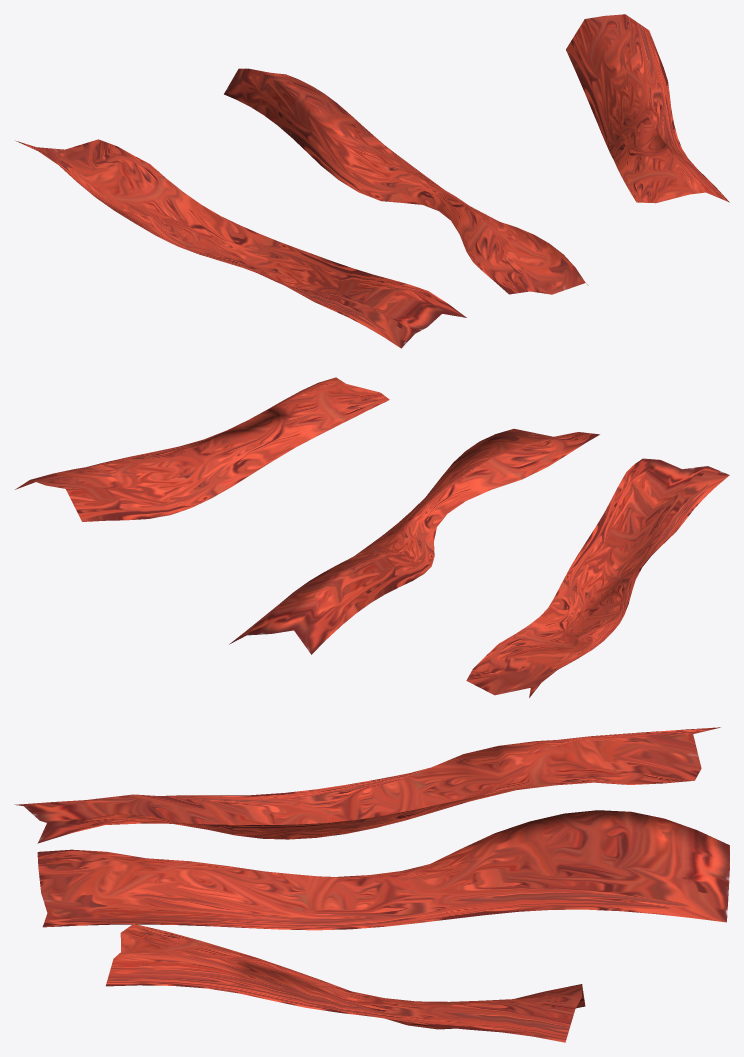
File: Bacon.glb
3 renders of one model, top to bottom at view 1: azimuth 30°, elevation 25°; view 2: azimuth 150°, elevation 25°; view 3: azimuth 270°, elevation 25°, orthographic. The views are drawn at different scales.
Parts seen in each view (by area): view 1: Bacon.002, Bacon, Bacon.001; view 2: Bacon.002, Bacon.001, Bacon; view 3: Bacon, Bacon.002, Bacon.001.
Boxes of the visible parts, bbox=[...] form: Bacon.002: bbox=[15, 139, 466, 348]; Bacon: bbox=[224, 68, 588, 294]; Bacon.001: bbox=[566, 14, 729, 203]; Bacon.002: bbox=[466, 458, 729, 697]; Bacon.001: bbox=[15, 377, 389, 521]; Bacon: bbox=[229, 428, 599, 654]; Bacon: bbox=[37, 810, 729, 930]; Bacon.002: bbox=[14, 727, 720, 843]; Bacon.001: bbox=[106, 924, 585, 1042].
Size of the model in its own units: 2.33 by 0.3113 by 2.09.
Materials: 3 (3 with a texture image).
